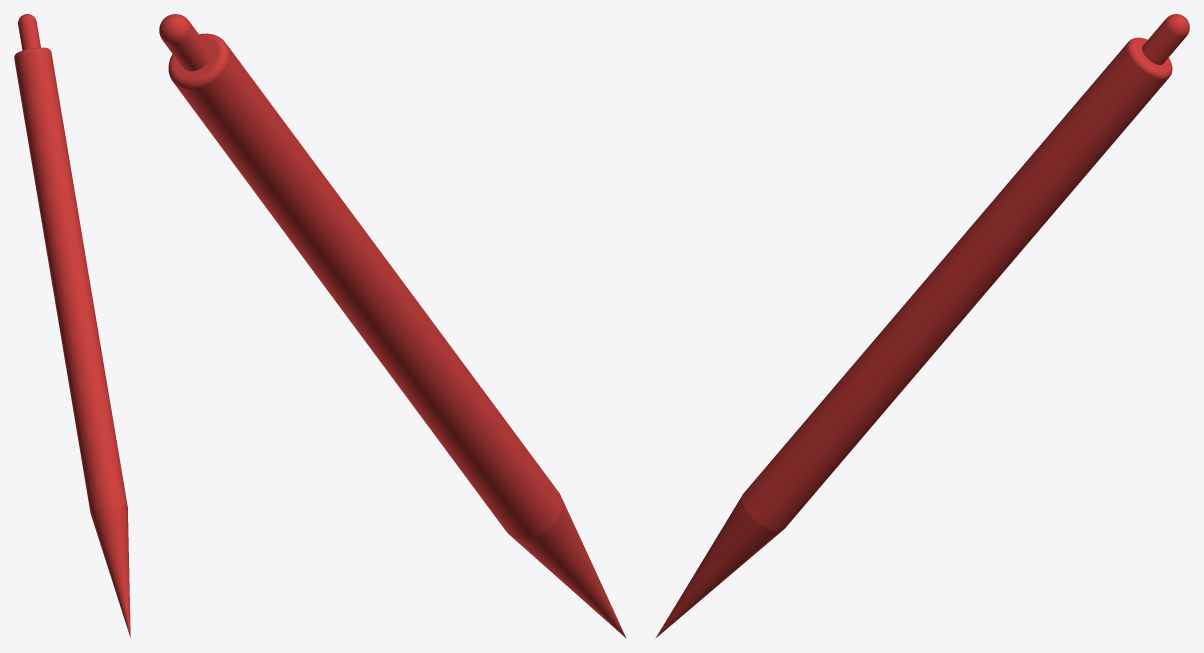
The model's file is pen2.glb.
The picture shows the model from 3 angles, left to right: view 1: azimuth 30°, elevation 25°; view 2: azimuth 150°, elevation 25°; view 3: azimuth 270°, elevation 25°; orthographic projection. The views are drawn at different scales.
Parts seen in each view (by area): view 1: Body130; view 2: Body130; view 3: Body130.
Boxes of the visible parts, bbox=[...] form: Body130: bbox=[14, 14, 130, 637]; Body130: bbox=[159, 14, 626, 638]; Body130: bbox=[655, 14, 1189, 638].
Bounding box in the file's own units: 0.0532 × 0.2661 × 0.1901.
